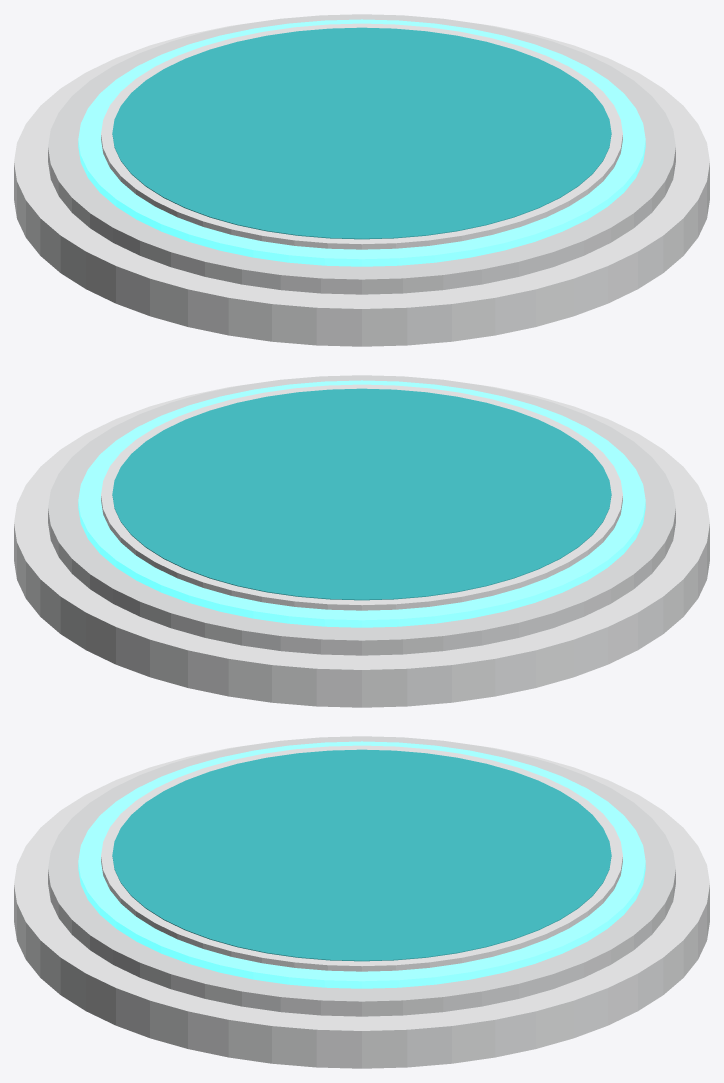
File: flamingo-fountain-lod1.glb
The picture shows the model from 3 angles, top to bottom: view 1: azimuth 30°, elevation 25°; view 2: azimuth 150°, elevation 25°; view 3: azimuth 270°, elevation 25°; orthographic projection.
Parts seen in each view (by area): view 1: flamingo-fountain-lod1; view 2: flamingo-fountain-lod1; view 3: flamingo-fountain-lod1.
Boxes of the visible parts, <box> form: flamingo-fountain-lod1: <box>14,14,709,346</box>; flamingo-fountain-lod1: <box>14,375,709,707</box>; flamingo-fountain-lod1: <box>14,736,709,1068</box>.
Bounding box in the file's own units: 9.2 × 0.97 × 9.2.
